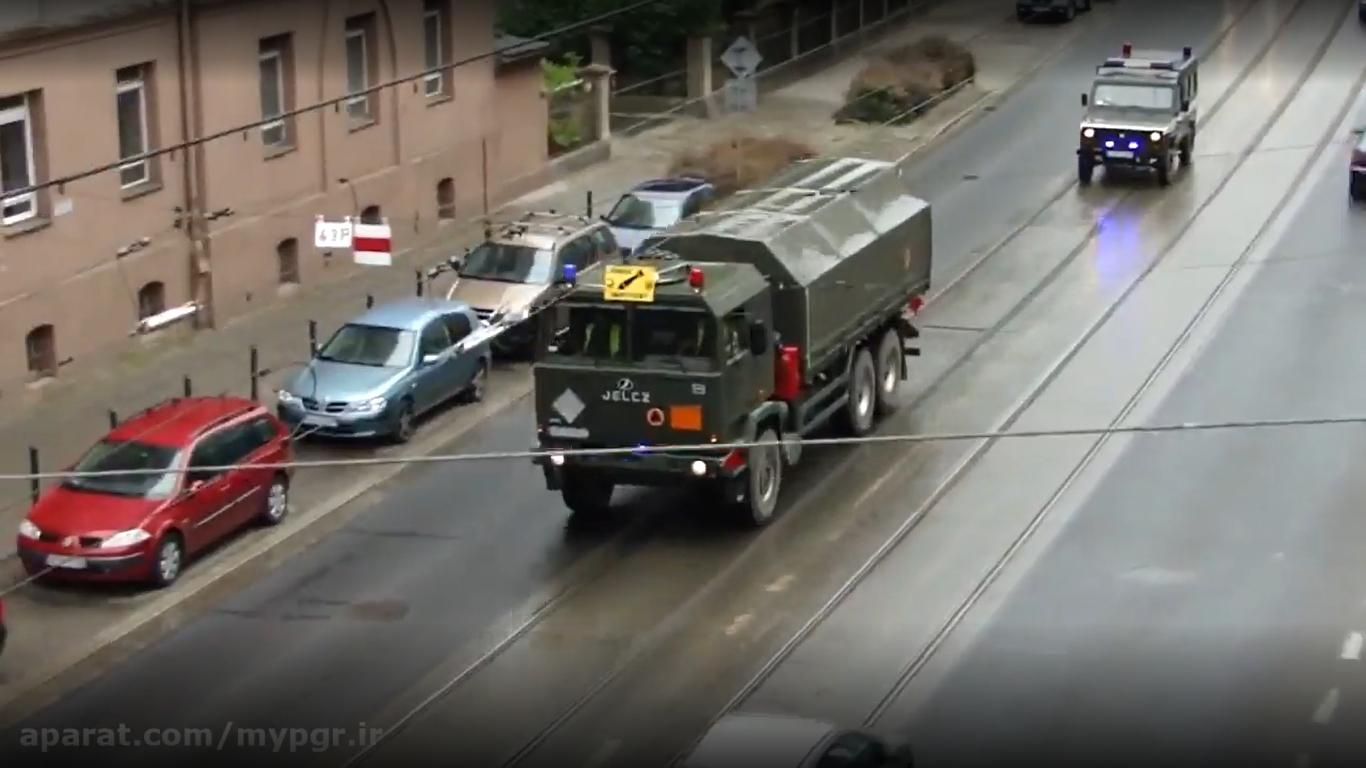truck: (527, 140, 942, 524)
